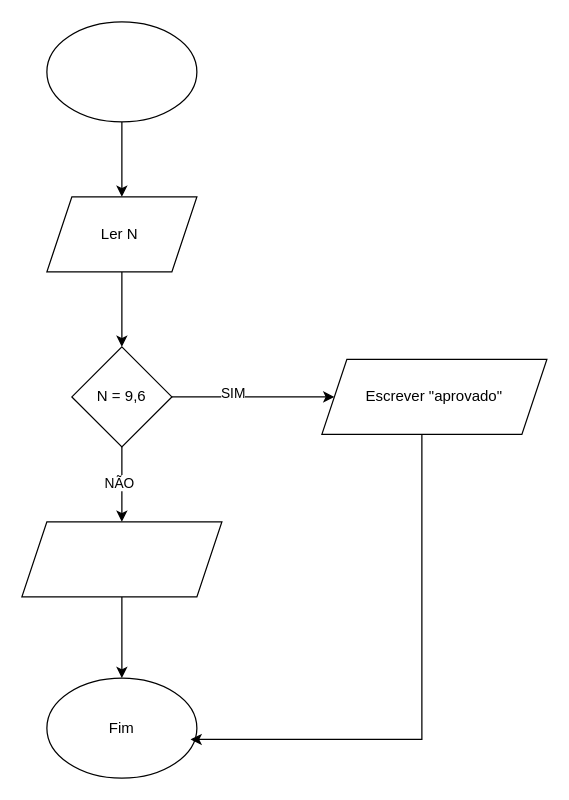
This 569x800 diagram has some shape labels left out. Here are the shapes that lost their labels. From the top down, the centre of each, then its label:
point (121, 71): Início
point (121, 559): Escrever "reporvado"
